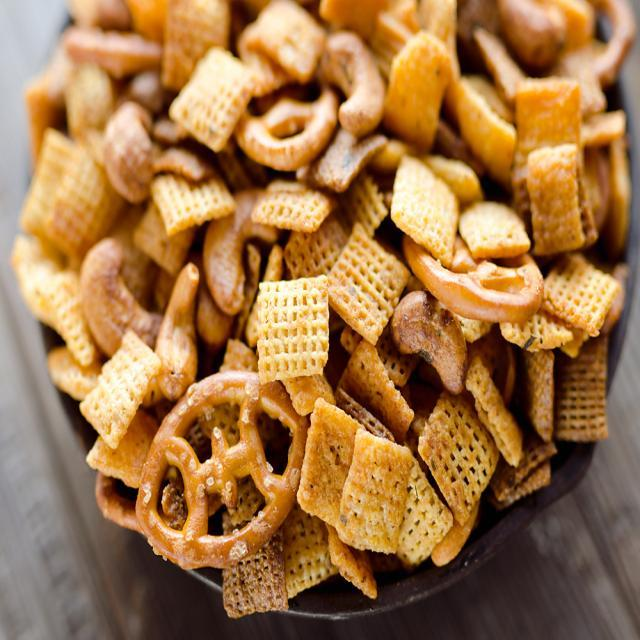Salatini: (38, 3, 622, 580)
